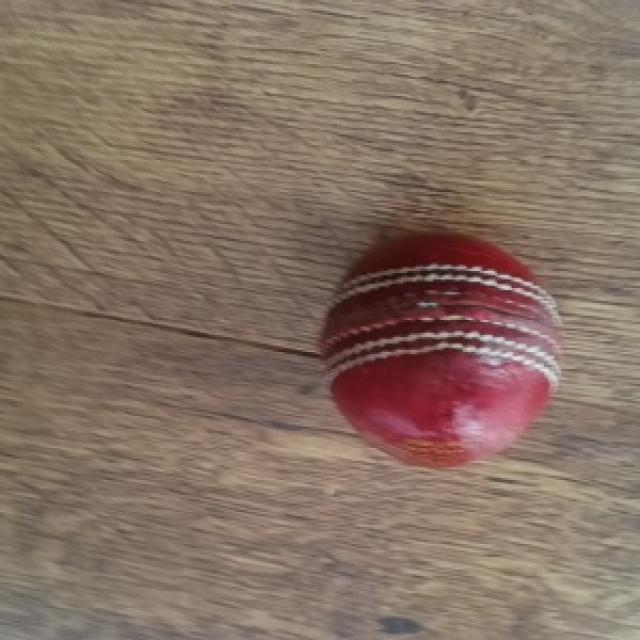ball: (318, 228, 565, 474)
